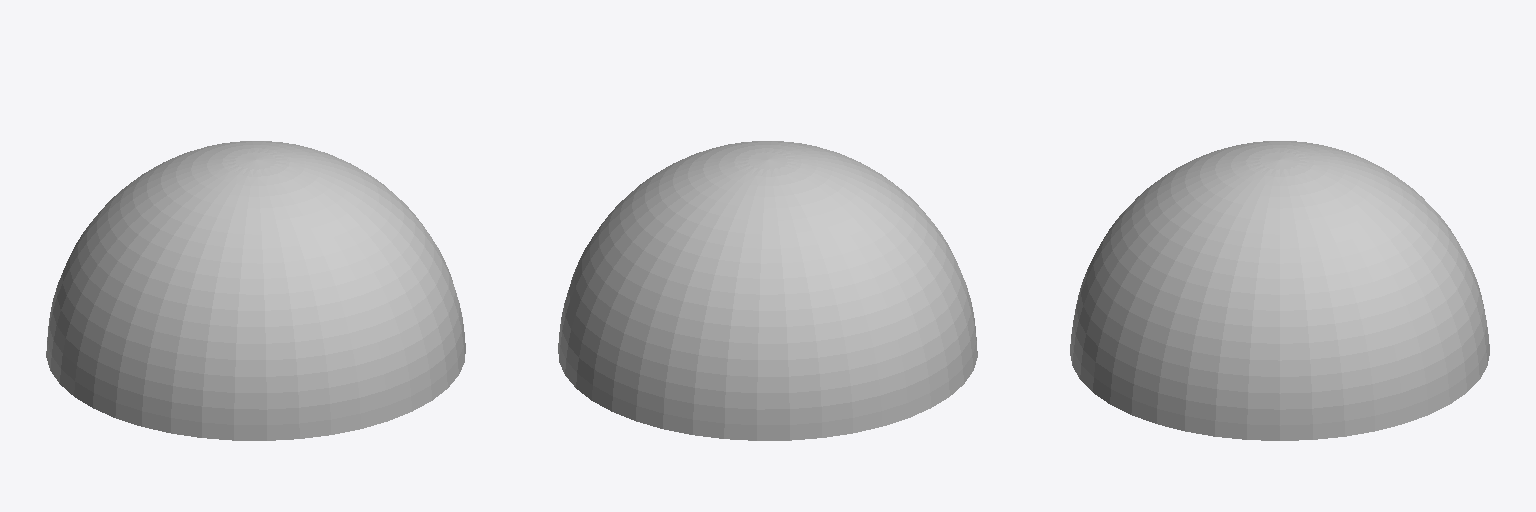
Rendered from UfoGlass.obj.
The picture shows the model from 3 angles: view 1: azimuth 30°, elevation 25°; view 2: azimuth 150°, elevation 25°; view 3: azimuth 270°, elevation 25°; orthographic projection.
Parts seen in each view (by area): view 1: Kuppel Ufo_detaillierter; view 2: Kuppel Ufo_detaillierter; view 3: Kuppel Ufo_detaillierter.
Boxes of the visible parts, <box> form: Kuppel Ufo_detaillierter: <box>46,141,465,440</box>; Kuppel Ufo_detaillierter: <box>558,141,977,440</box>; Kuppel Ufo_detaillierter: <box>1070,141,1489,440</box>.
Size of the model in its own units: 3.7 by 1.87 by 3.7.